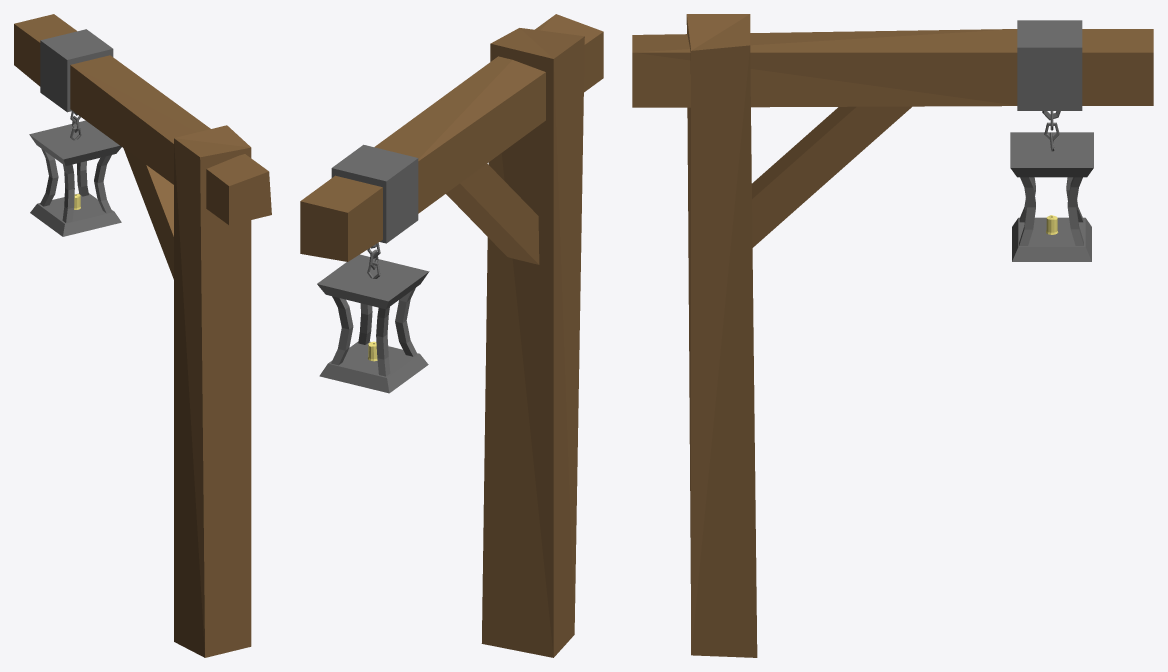
Rendered from Straßenlaterne-fixed.fbx.
The picture shows the model from 3 angles, left to right: view 1: azimuth 30°, elevation 25°; view 2: azimuth 150°, elevation 25°; view 3: azimuth 270°, elevation 25°; orthographic projection. The views are drawn at different scales.
Visible parts, largest first — view 1: Cube; view 2: Cube; view 3: Cube.
Boxes of the visible parts, x1,y1,x2,y2 form: Cube: (14, 14, 271, 657); Cube: (300, 14, 603, 657); Cube: (632, 14, 1153, 657).
Bounding box in the file's own units: 60.79 × 484 × 374.
